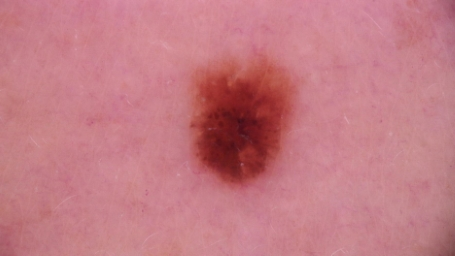nevus: (192, 65, 283, 186)
